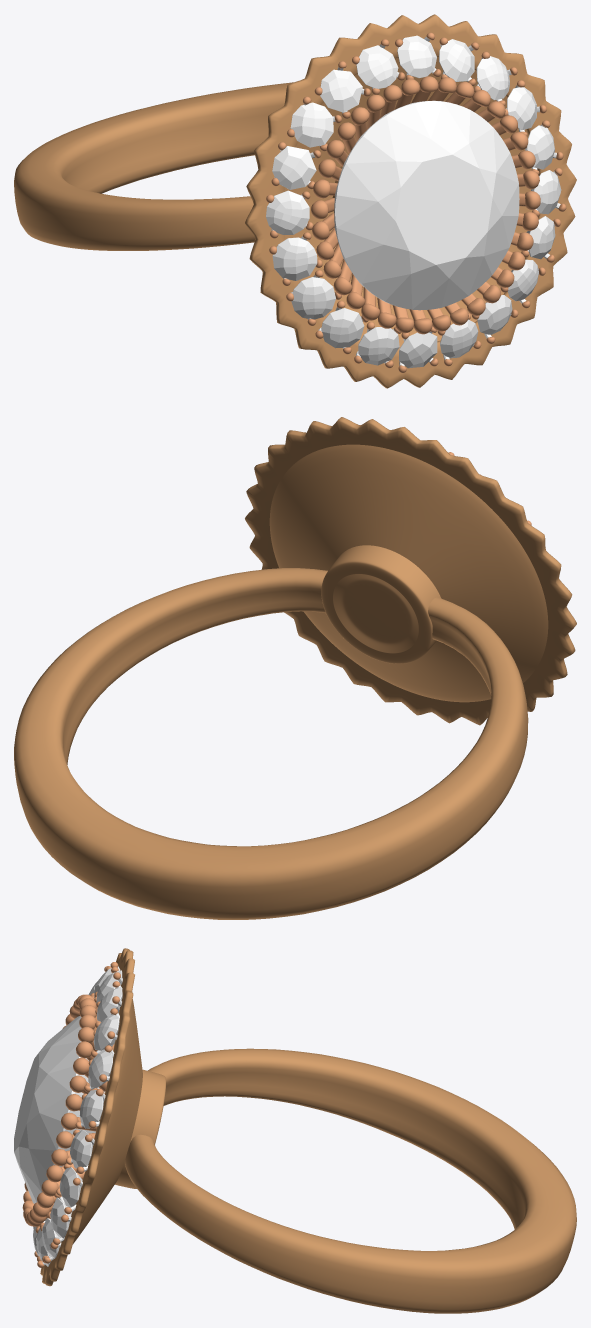
Rendered from Jewellery.glb.
The picture shows the model from 3 angles, top to bottom: view 1: azimuth 30°, elevation 25°; view 2: azimuth 150°, elevation 25°; view 3: azimuth 270°, elevation 25°; orthographic projection. The views are drawn at different scales.
Visible parts, largest first — view 1: Body, Gems; view 2: Body; view 3: Body, Gems.
Boxes of the visible parts, x1=… form: Body: x1=14, y1=14, x2=576, y2=388; Gems: x1=266, y1=35, x2=561, y2=368; Body: x1=14, y1=417, x2=576, y2=919; Body: x1=22, y1=948, x2=576, y2=1313; Gems: x1=14, y1=966, x2=122, y2=1266.
Size of the model in its own units: 1.48 by 1.04 by 1.75.
